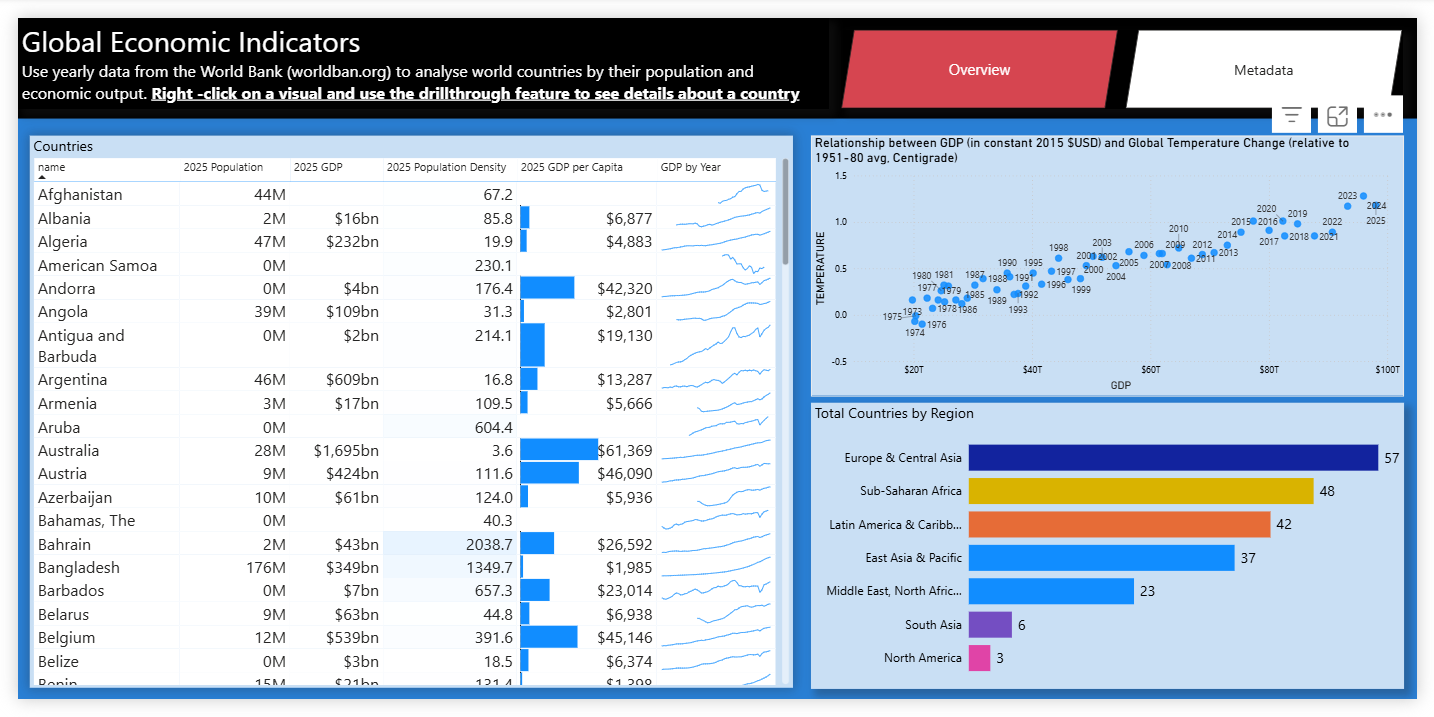

The page's visual inventory and layout, read from the dashboard file:
{"tool":"powerbi","page":{"name":"Overview","canvas":[1850,900],"ordinal":0},"visuals":[{"type":"tableEx","title":"Countries","fields":{"Values":["Countries.name","Measures (2).2020 Population","Measures (2).2020 GDP","Measures (2).2020 Population Density","Measures (2).2020 GDP per Capita","SparklineData(Measures (2).GDP_[Indicators.Year])"]},"box":[16.7,156.1,1009.5,730.6],"z":0},{"type":"clusteredBarChart","title":"Total Countries by Region","fields":{"Category":["Countries.region"],"Y":["Count(Countries)"]},"box":[1049,507.9,784.7,378.8],"z":1000},{"type":"pageNavigator","box":[1088.6,16.7,743.1,104.1],"z":2000},{"type":"textbox","box":[0,0,1073.1,120.8],"z":3000},{"type":"scatterChart","title":"Relationship between GDP (in constant 2015 $USD) and Global Temperature Change (relative to 1951-80 avg, Centigrade)","fields":{"Category":["Year.Year"],"X":["Measures (2).GDP"],"Y":["Measures (2).TEMPERATURE"]},"box":[1049,156.1,784.7,343.4],"z":4000}]}

Visuals, with their boxes in screenshot pixels (x1, y1, x2, y2), scaled from the page's 1850x900 canvas onto the 1434x717 screenshot:
"Countries" tableEx: 13,124,795,706
"Total Countries by Region" clusteredBarChart: 813,405,1421,706
pageNavigator: 844,13,1420,96
textbox: 0,0,832,96
"Relationship between GDP (in constant 2015 $USD) and Global Temperature Change (relative to 1951-80 avg, Centigrade)" scatterChart: 813,124,1421,398
